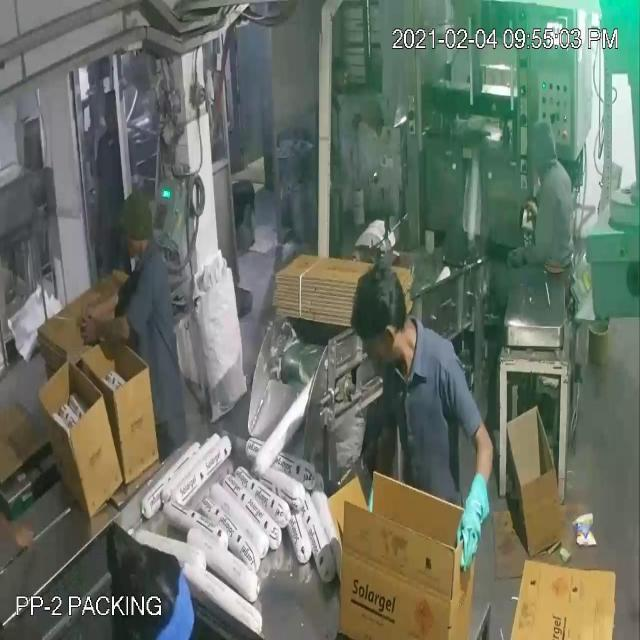No_Gloves: (36, 58, 470, 522)
